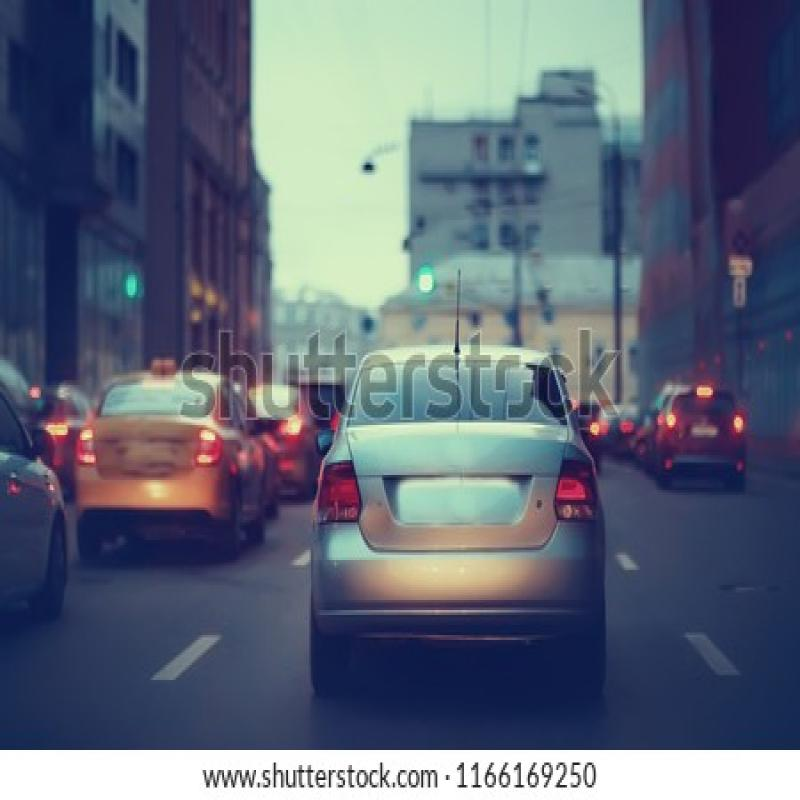car: (317, 330, 633, 686)
